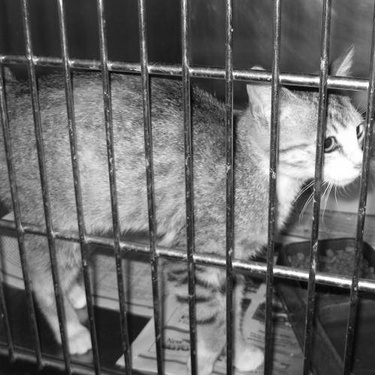cat: (3, 31, 365, 357)
